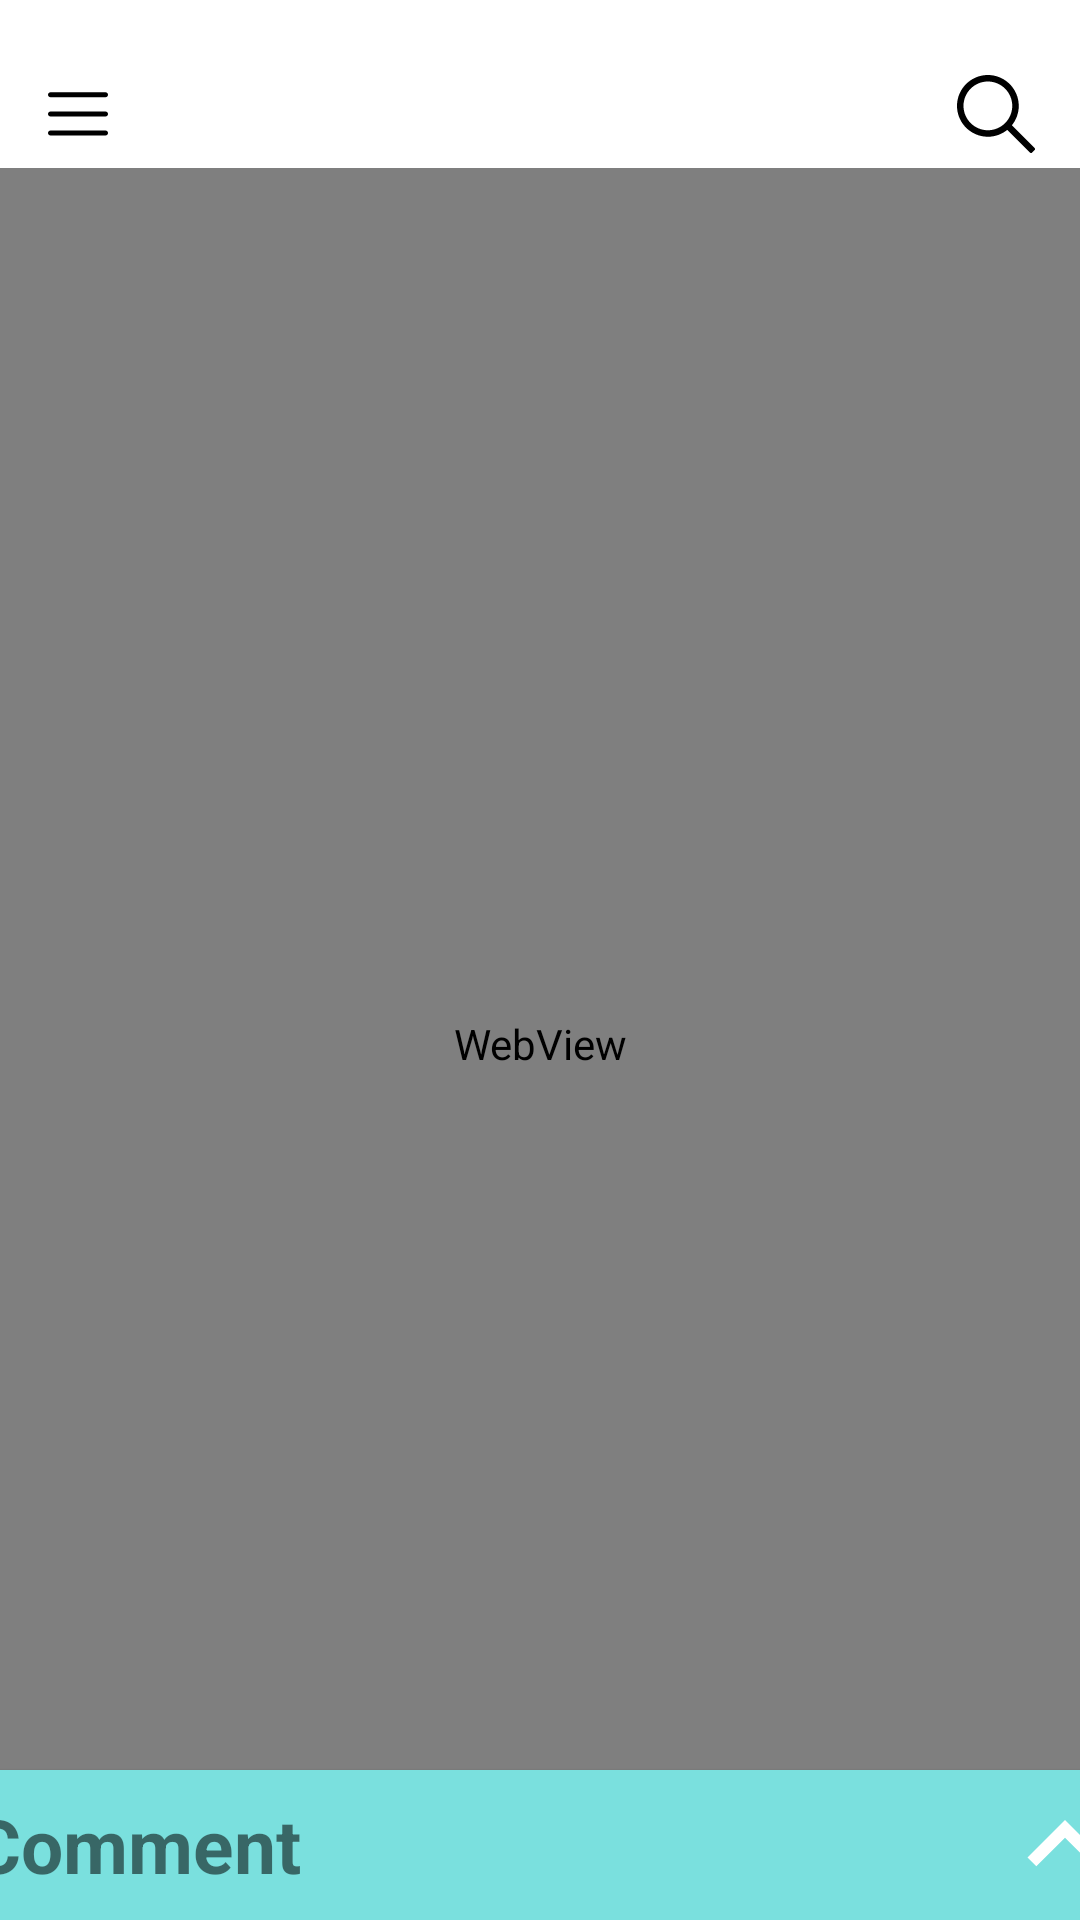

Where icons sit on this 1080 x 1920 app screen, as (left=x1, top=y1, right=x2, bottom=y2):
open menu: (left=48, top=92, right=108, bottom=136)
search: (left=957, top=75, right=1035, bottom=153)
